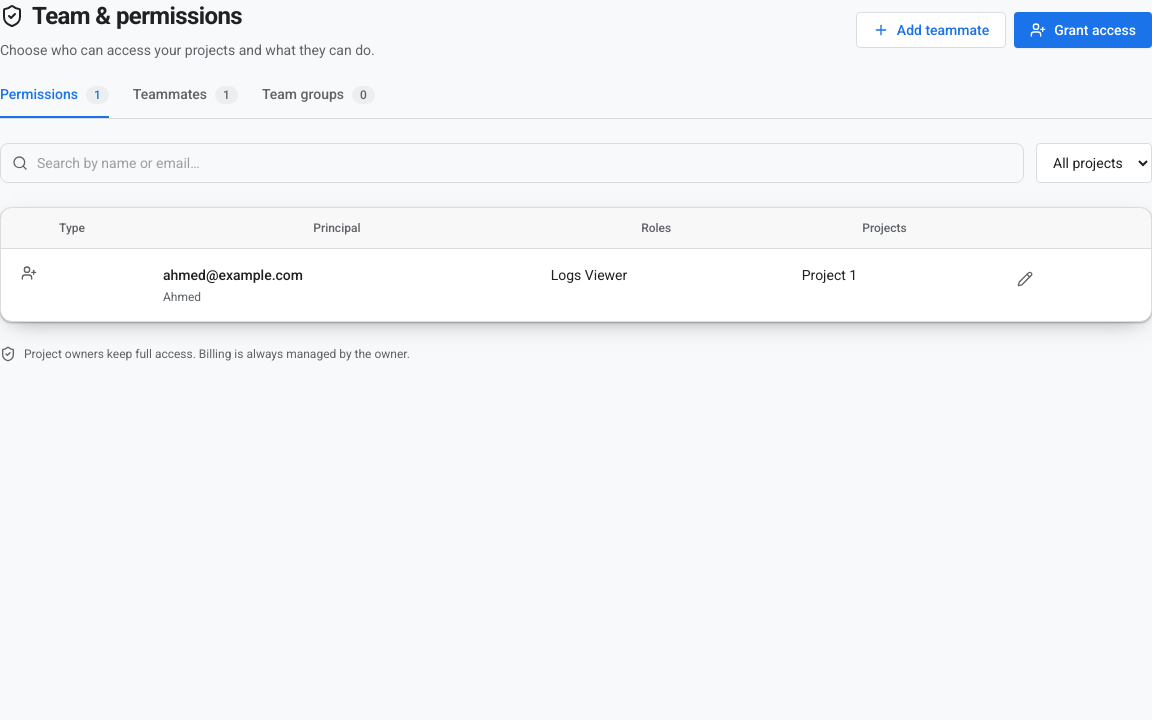
Scenario: Project Access › confirms an owner password reset and shows the new temporary password once
Click the tab "Teammates1".
click(185, 101)  # box [133,84,238,118]
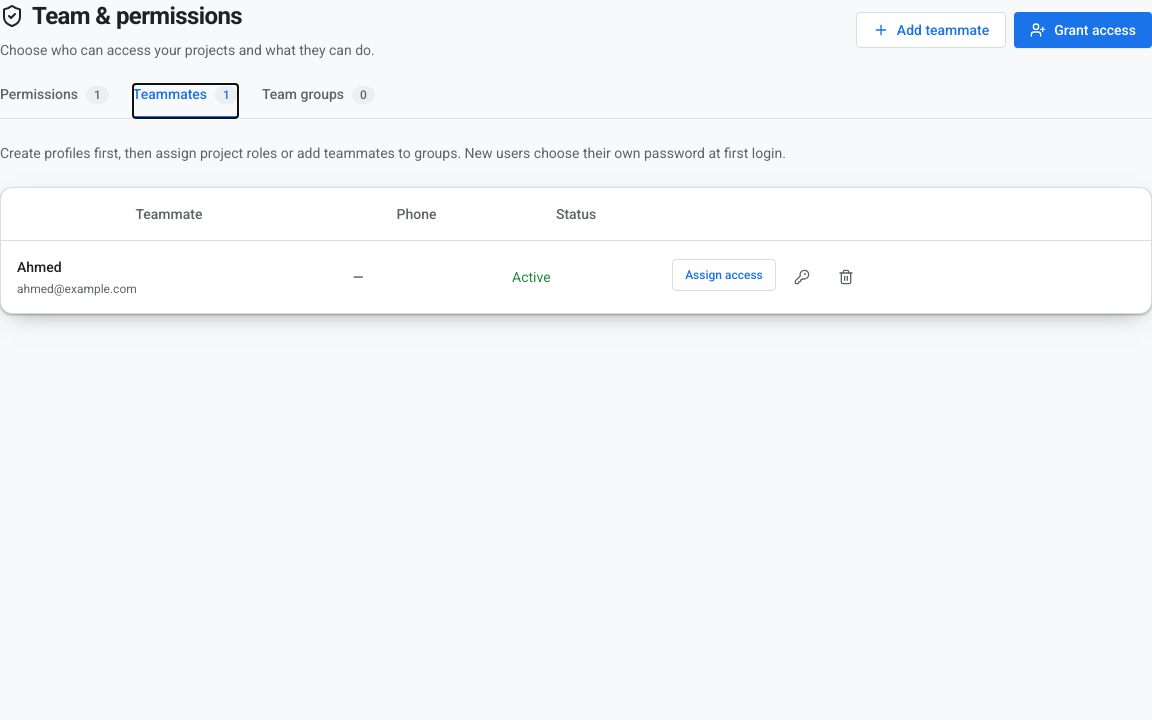
Click the button named "Reset password for Ahmed".
click(802, 277)  # box [784,259,820,295]
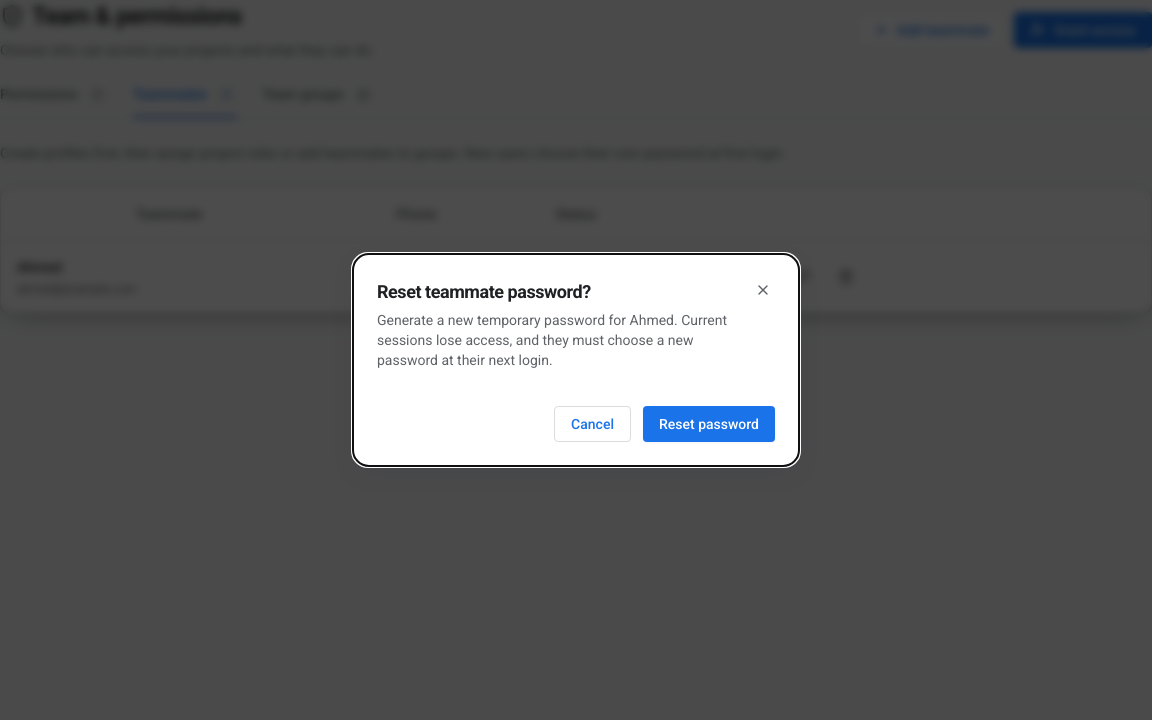
Click the button "Reset password".
click(709, 424)  # box [643,406,775,442]
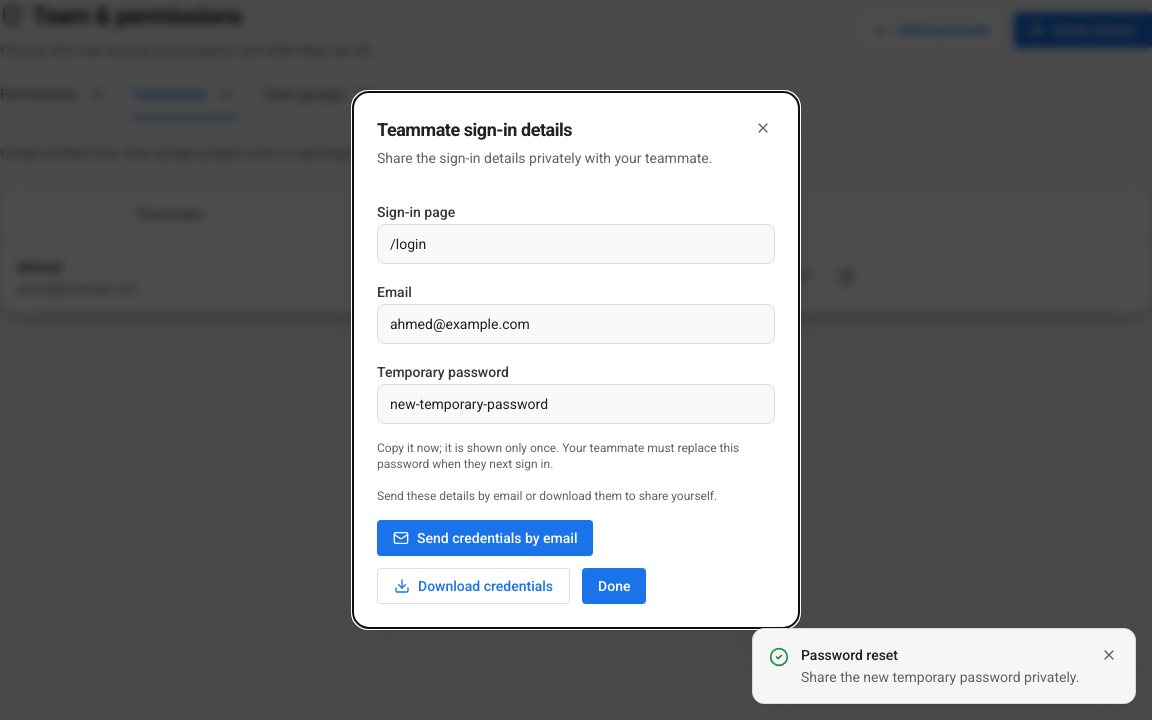
Now the 3rd field showing "new-temporary-password" is shown, box [377,384,775,424]
